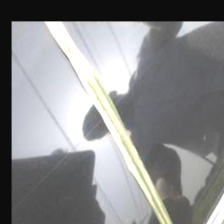Leaf_Blast: (58, 22, 172, 224)
